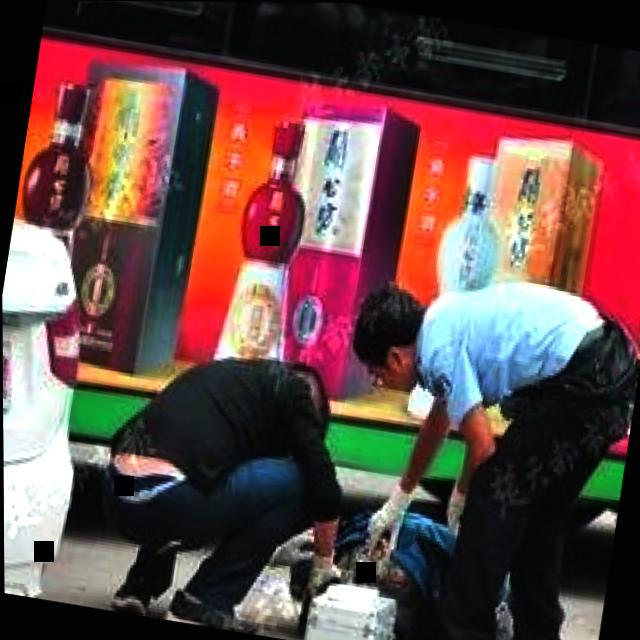Fall-Detected: (256, 451, 554, 640)
